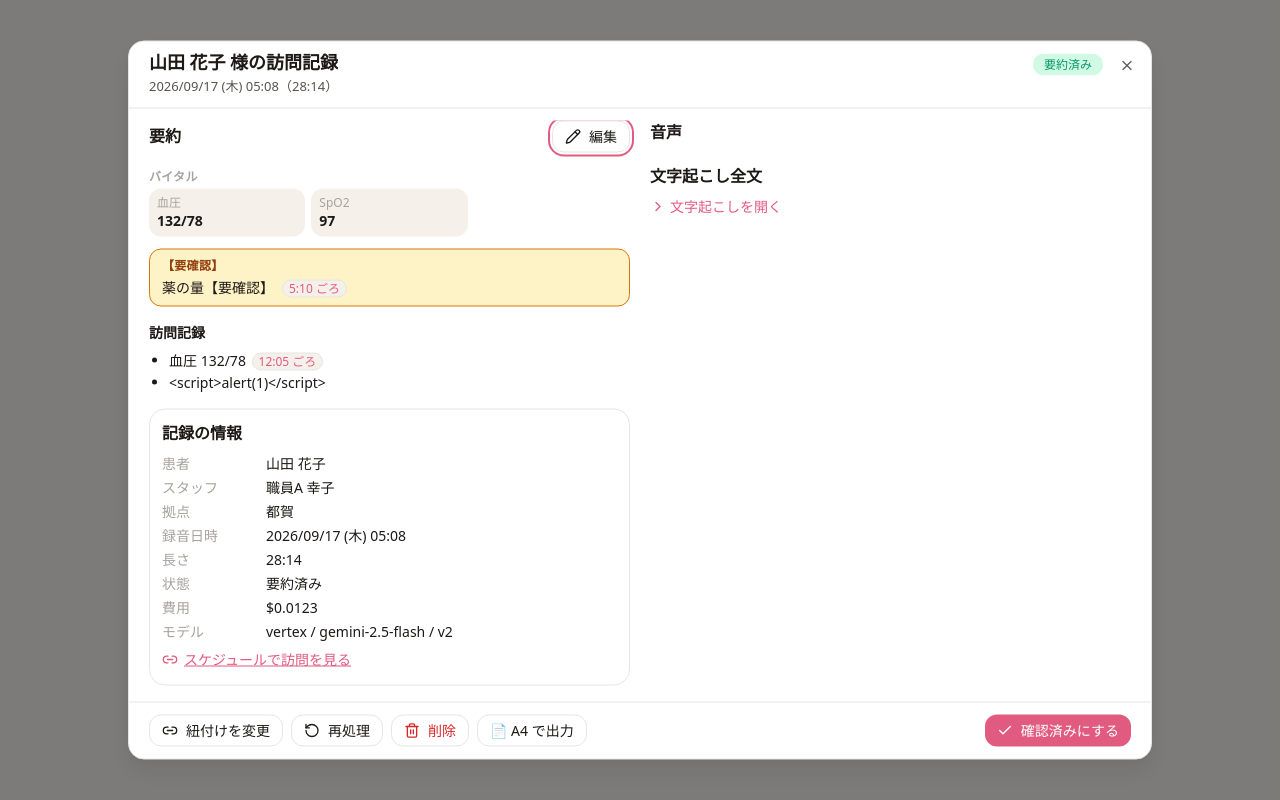
it: RecordDetailDialog › v2: 整えた行が無ければ元の行だけ（切り替えは出さない）
Step 1. Click the button with test id "record-transcript-toggle" → coordinates (716, 206), box [650, 196, 782, 216]
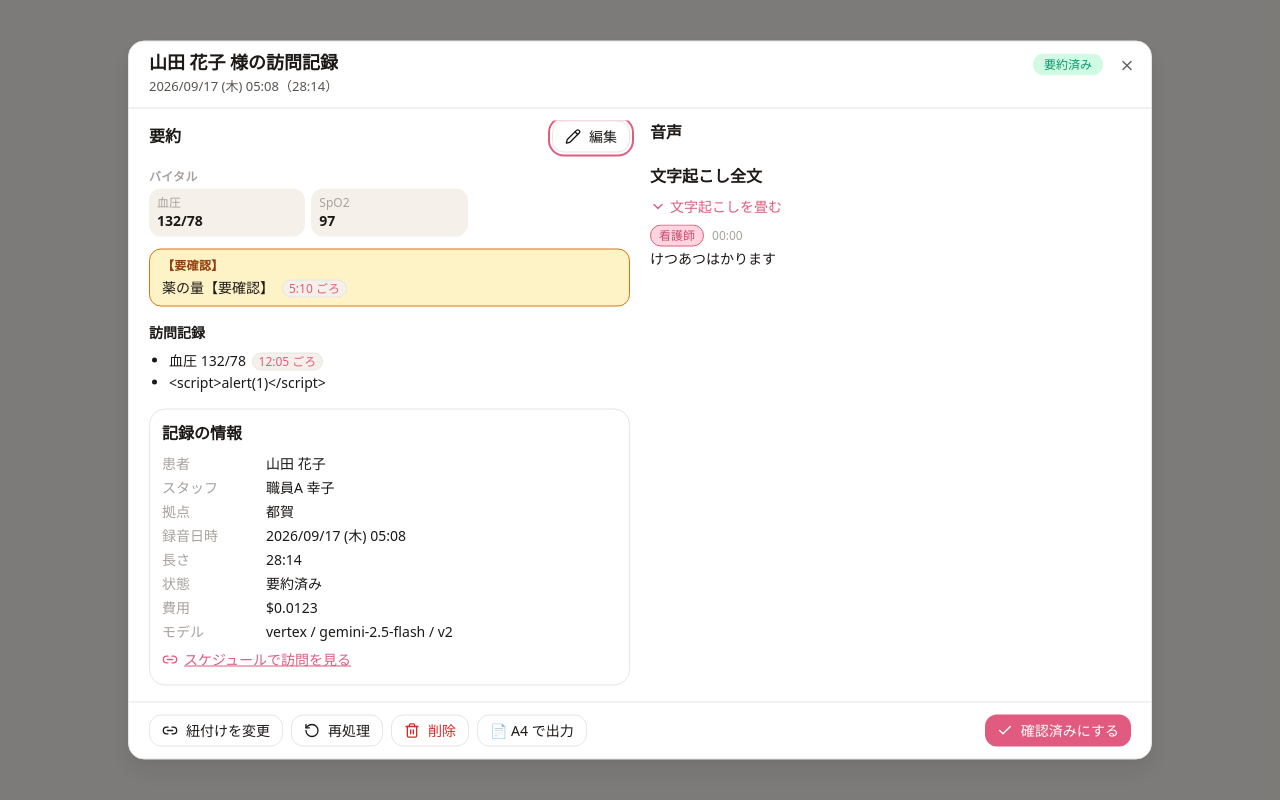
Expected: the element with test id "record-transcript-segments" shows "けつあつはかります", [650, 248, 776, 268]
